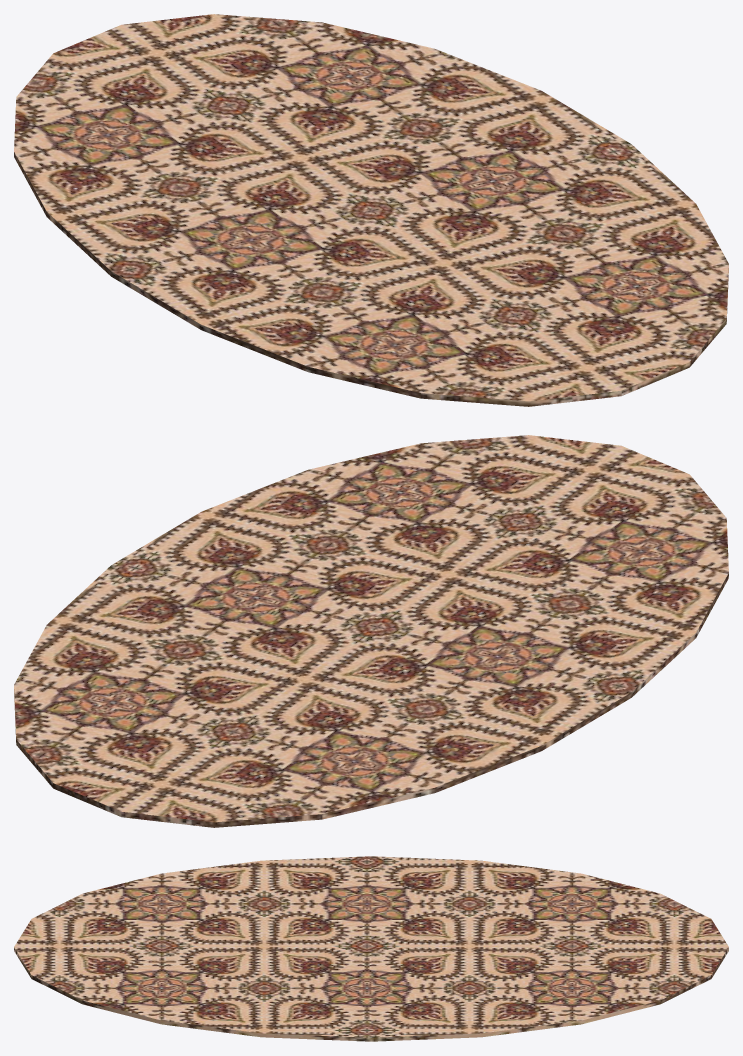
Rendered from Rug.fbx.
The picture shows the model from 3 angles, top to bottom: view 1: azimuth 30°, elevation 25°; view 2: azimuth 150°, elevation 25°; view 3: azimuth 270°, elevation 25°; orthographic projection. The views are drawn at different scales.
Visible parts, largest first — view 1: Rug; view 2: Rug; view 3: Rug.
Part boxes in pixels (x1=…): Rug: x1=14, y1=14, x2=728, y2=406; Rug: x1=14, y1=435, x2=728, y2=827; Rug: x1=14, y1=856, x2=728, y2=1041.
Bounding box in the file's own units: 202 × 2.03 × 336.
